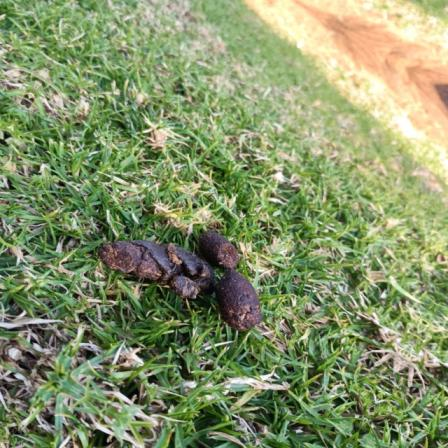dog-poop: (102, 227, 267, 334)
